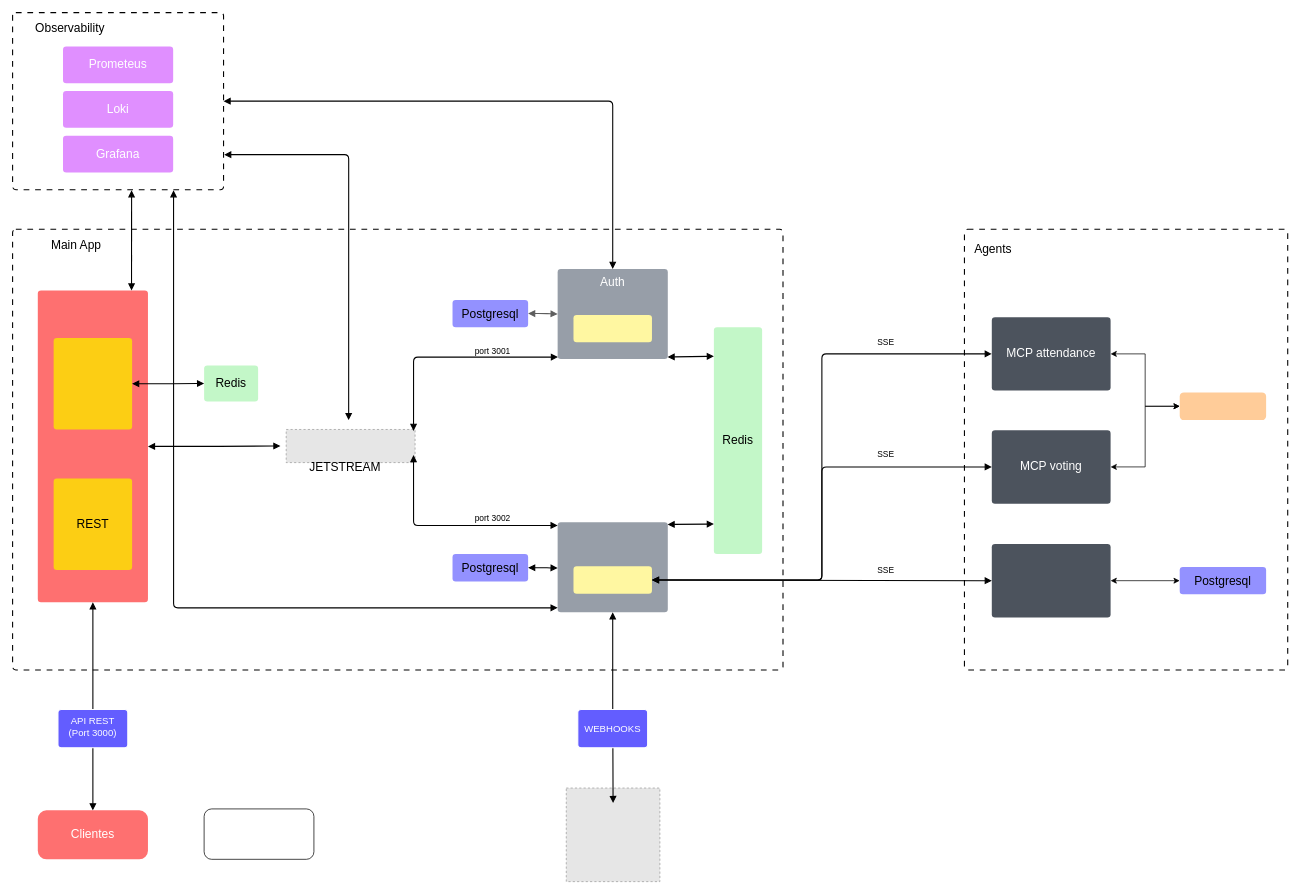
This 1301x895 diagram has some shape labels left out. Grey dashed boxes stand in for pictures. Each missing label, with the box of its shape:
Firebase: (573, 314, 652, 343)
Gateway: (37, 290, 148, 602)
Langraph: (573, 565, 652, 594)
MCP budget: (991, 543, 1111, 618)
Message: (557, 521, 668, 613)
Nginx (Port 8080): (203, 808, 314, 859)
Qdrant: (1179, 392, 1266, 420)
Socket.io: (53, 337, 132, 430)
